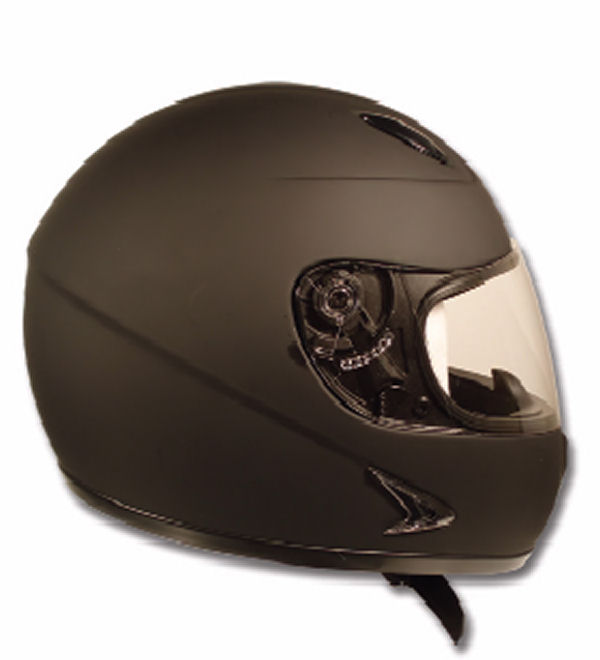helmet: (25, 98, 587, 586)
